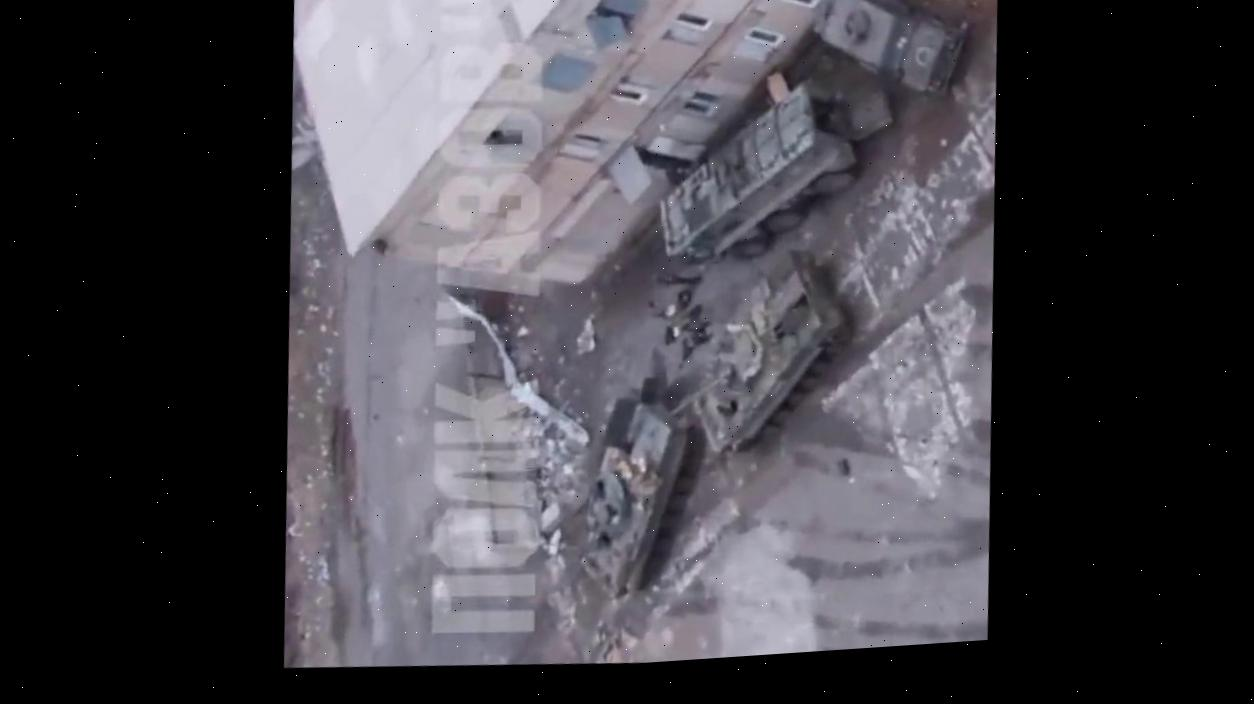armored_car: (809, 0, 970, 104)
person: (647, 286, 698, 323), (659, 305, 704, 345), (671, 326, 709, 367), (650, 268, 696, 292)
tank: (680, 252, 860, 461), (574, 388, 701, 604)
truck: (651, 68, 902, 278)
